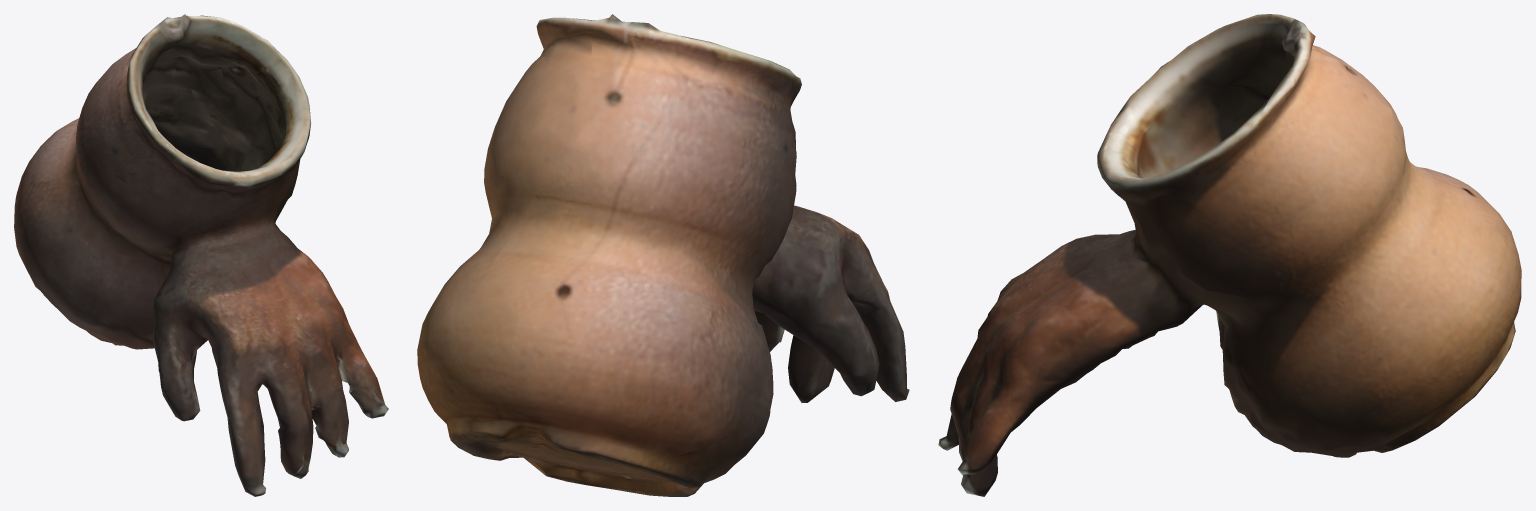
The model's file is Aphrodite.glb.
3 renders of one model, left to right at view 1: azimuth 30°, elevation 25°; view 2: azimuth 150°, elevation 25°; view 3: azimuth 270°, elevation 25°, orthographic. The views are drawn at different scales.
Visible parts, largest first — view 1: Aphrodite; view 2: Aphrodite; view 3: Aphrodite.
Part boxes in pixels (left/top/right/bottom): Aphrodite: left=14, top=14, right=388, bottom=496; Aphrodite: left=417, top=14, right=909, bottom=496; Aphrodite: left=938, top=14, right=1521, bottom=496.
Bounding box in the file's own units: 1.69 × 2.64 × 3.02.
Materials: 1 (1 with a texture image).
